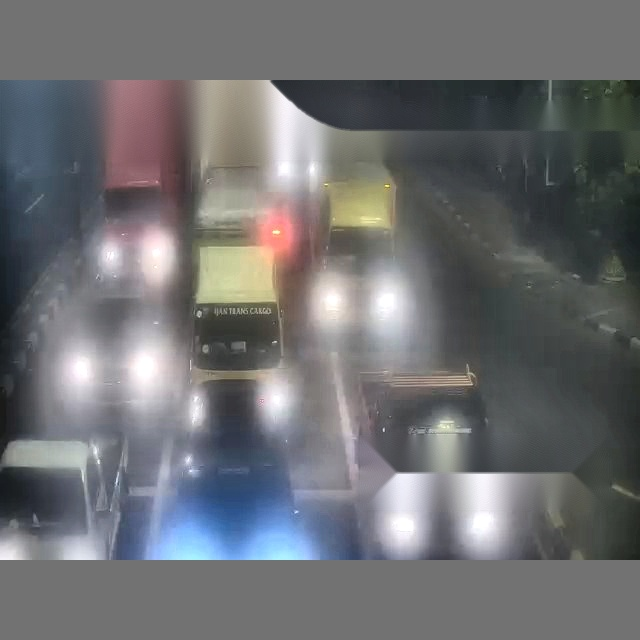Mobil: (0, 439, 124, 559)
